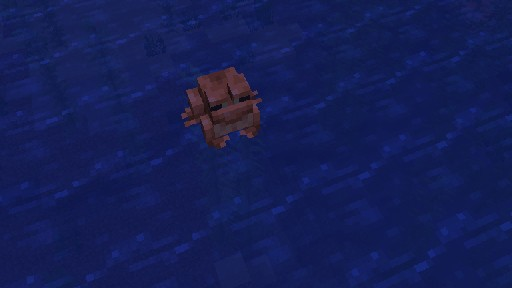frog: (180, 65, 262, 149)
